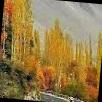right_turn: (28, 86, 98, 102)
